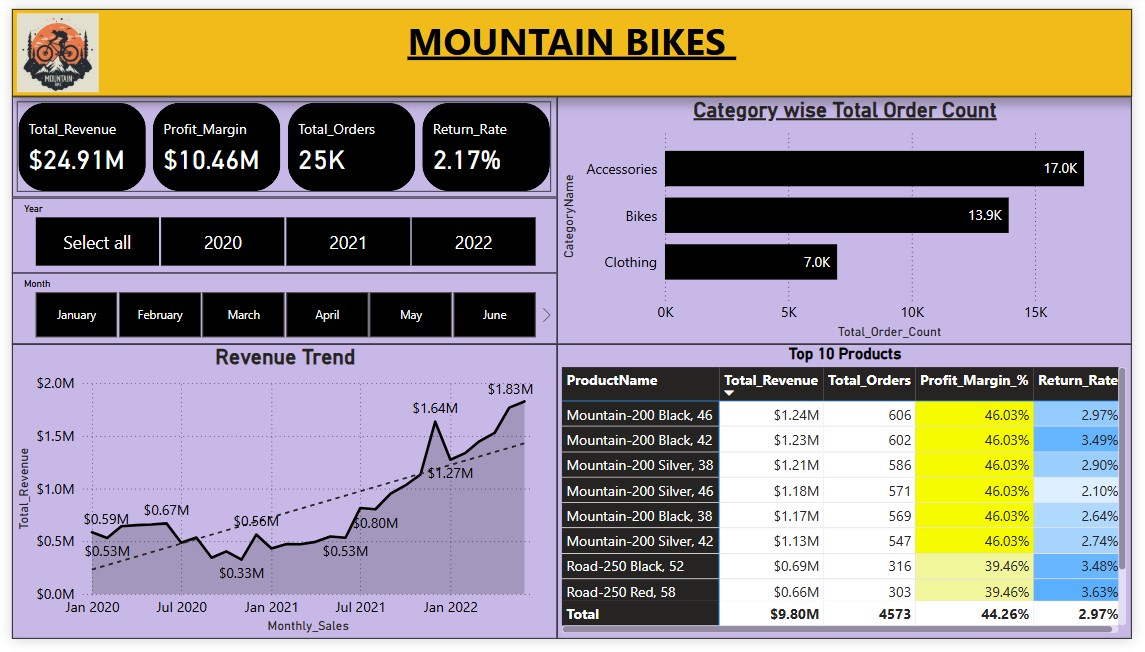

The dashboard page shown, as its layout file describes it:
{"tool":"powerbi","page":{"name":"Dashboard","canvas":[1280,720],"ordinal":5},"visuals":[{"type":"lineChart","title":"Revenue Trend","fields":{"Y":["Measure_Table.Total_Revenue"],"Category":["Calendar Lookup.Date.Variation.Date Hierarchy.Year","Calendar Lookup.Date.Variation.Date Hierarchy.Month"]},"box":[0,383.1,623.1,336.9],"z":0},{"type":"clusteredBarChart","title":"Category wise Total Order Count","fields":{"Category":["Product Categories Lookup.CategoryName"],"Y":["Measure_Table.Total_Orders"]},"box":[623.1,100,656.9,283.1],"z":1000},{"type":"pivotTable","title":"Top 10 Products","fields":{"Rows":["Product Lookup.ProductName"],"Values":["Measure_Table.Total_Revenue","Measure_Table.Total_Orders","Measure_Table.Profit_Margin_%","Measure_Table.Return_Rate"]},"box":[623.1,383.1,656.9,336.9],"z":2000},{"type":"cardVisual","fields":{"Data":["Measure_Table.Total_Revenue","Measure_Table.Profit_Margin","Measure_Table.Total_Orders","Measure_Table.Return_Rate"]},"box":[0,100,623.1,115.4],"z":3000},{"type":"slicer","fields":{"Values":["Calendar Lookup.Date.Variation.Date Hierarchy.Year"]},"box":[0,215.4,623.1,86.2],"z":4000},{"type":"textbox","box":[0,0,1280,100],"z":5000},{"type":"slicer","fields":{"Values":["Calendar Lookup.Date.Variation.Date Hierarchy.Month"]},"box":[0,301.5,623.1,81.5],"z":6000},{"type":"image","box":[0,0,104.6,100],"z":7000}]}

Visuals, with their boxes in screenshot pixels (x1, y1, x2, y2), scaled from the page's 1280x720 canvas onto the 1145x652 screenshot:
"Revenue Trend" lineChart: bbox=[0, 347, 557, 651]
"Category wise Total Order Count" clusteredBarChart: bbox=[557, 91, 1144, 347]
"Top 10 Products" pivotTable: bbox=[557, 347, 1144, 651]
cardVisual - Measure_Table.Total_Revenue x Measure_Table.Profit_Margin: bbox=[0, 91, 557, 195]
slicer - Calendar Lookup.Date.Variation.Date Hierarchy.Year: bbox=[0, 195, 557, 273]
textbox: bbox=[0, 0, 1144, 91]
slicer - Calendar Lookup.Date.Variation.Date Hierarchy.Month: bbox=[0, 273, 557, 347]
image: bbox=[0, 0, 94, 91]
